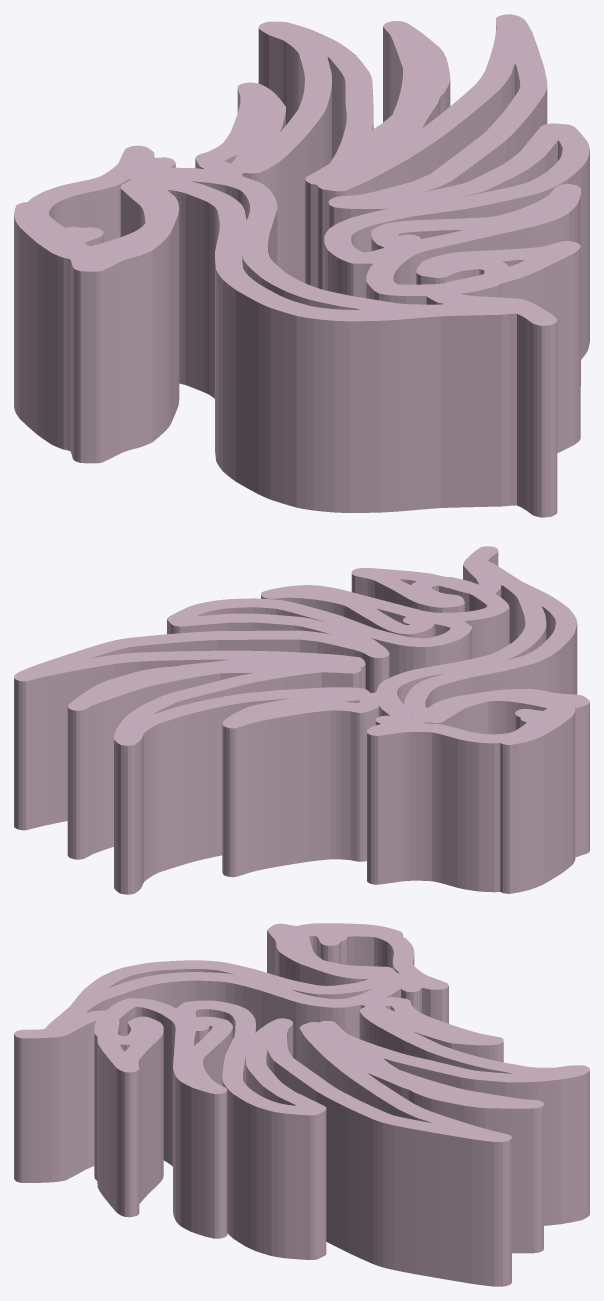
The model's file is fenix.glb.
3 views of the same model, one above another, from view 1: azimuth 30°, elevation 25°; view 2: azimuth 150°, elevation 25°; view 3: azimuth 270°, elevation 25° (orthographic). The views are drawn at different scales.
Visible parts, largest first — view 1: Mesh_Mesh_head_geo.001_lambert2SG.001; view 2: Mesh_Mesh_head_geo.001_lambert2SG.001; view 3: Mesh_Mesh_head_geo.001_lambert2SG.001.
Boxes of the visible parts, x1,y1,x2,y2 form: Mesh_Mesh_head_geo.001_lambert2SG.001: (14,14,589,517); Mesh_Mesh_head_geo.001_lambert2SG.001: (14,546,589,894); Mesh_Mesh_head_geo.001_lambert2SG.001: (14,923,589,1286).
Size of the model in its own units: 50.6 by 15.6 by 56.28.
